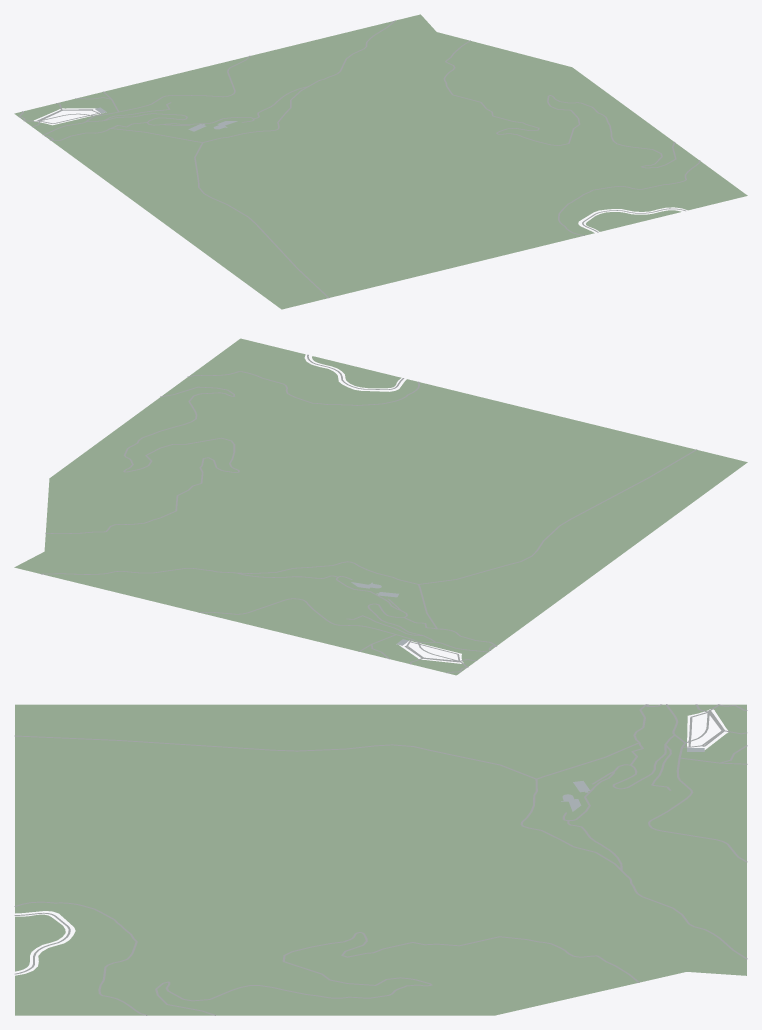
The model's file is 17_3-known-coarse.glb.
3 views of the same model, one above another, from view 1: azimuth 30°, elevation 25°; view 2: azimuth 150°, elevation 25°; view 3: azimuth 270°, elevation 25° (orthographic). The views are drawn at different scales.
Size of the model in its own units: 1003 by 0.15 by 998.
